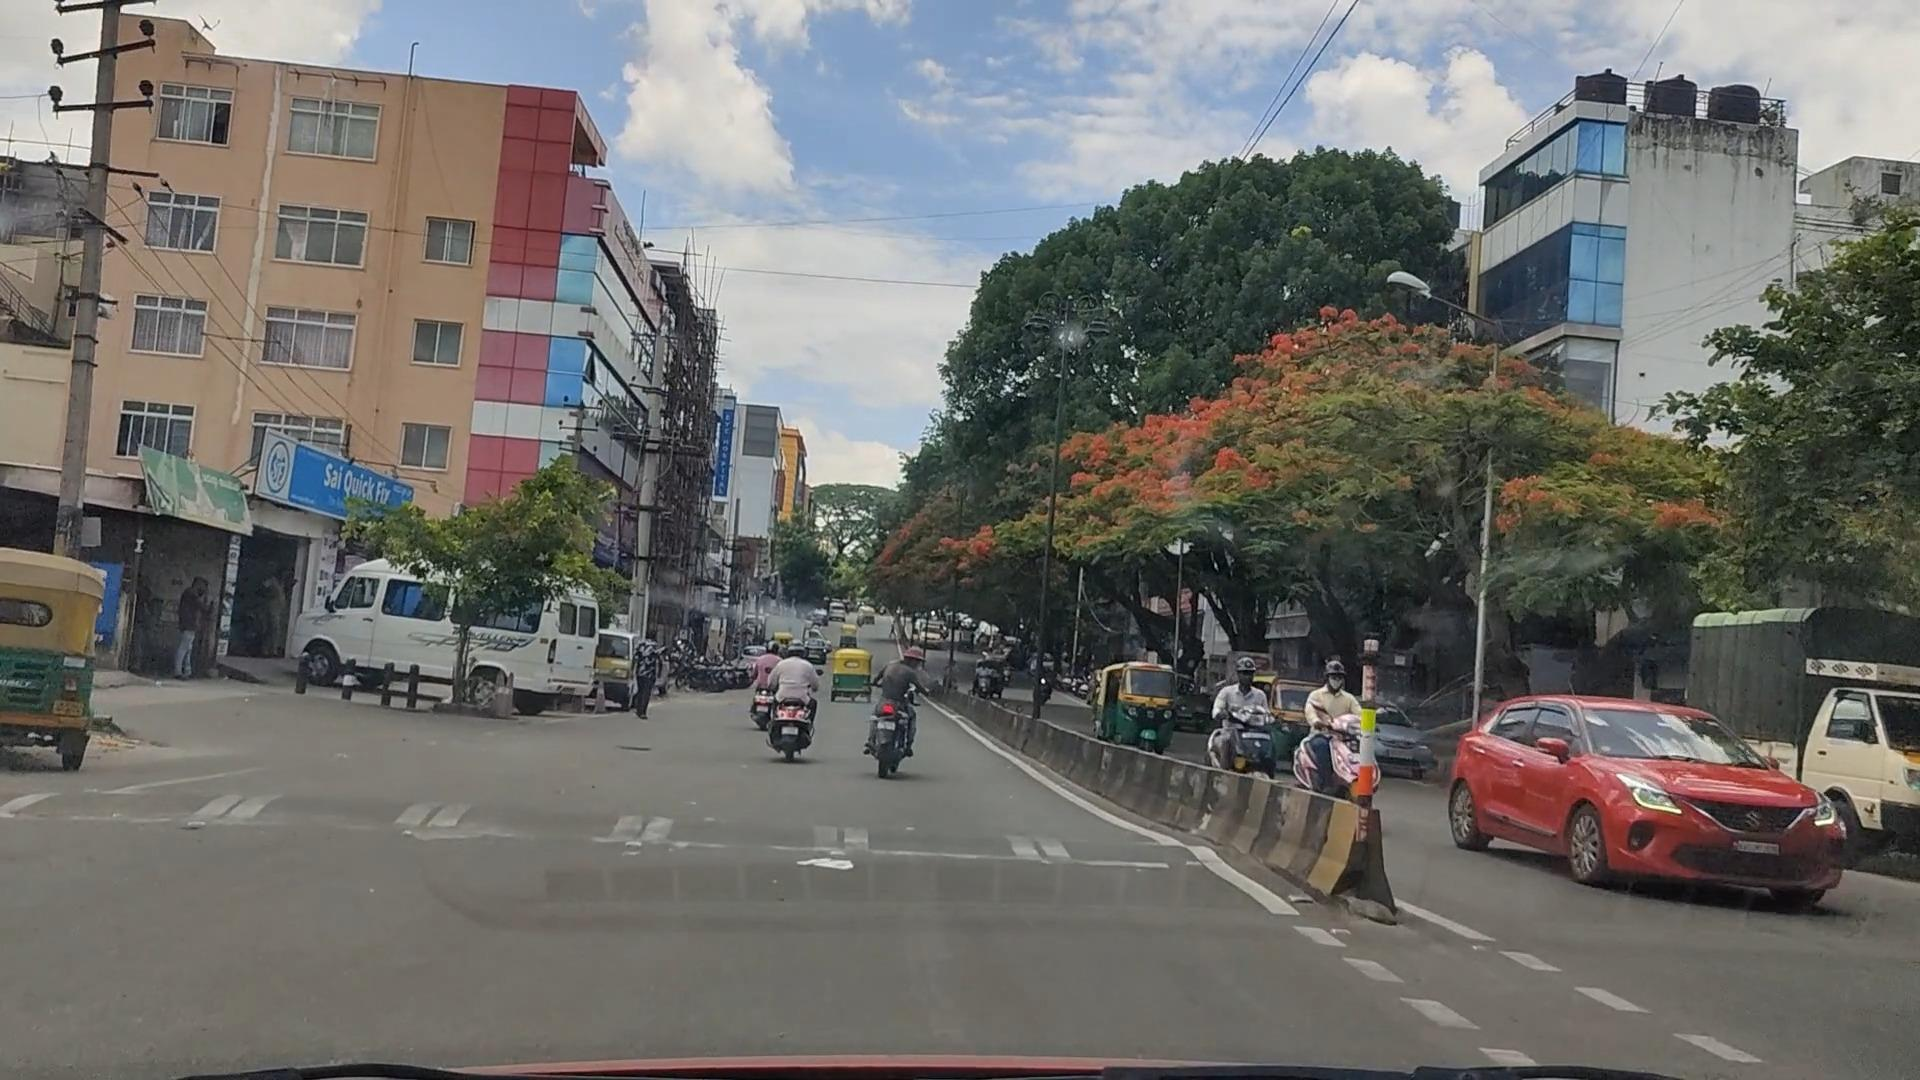SpeedBump: (58, 786, 1195, 878)
